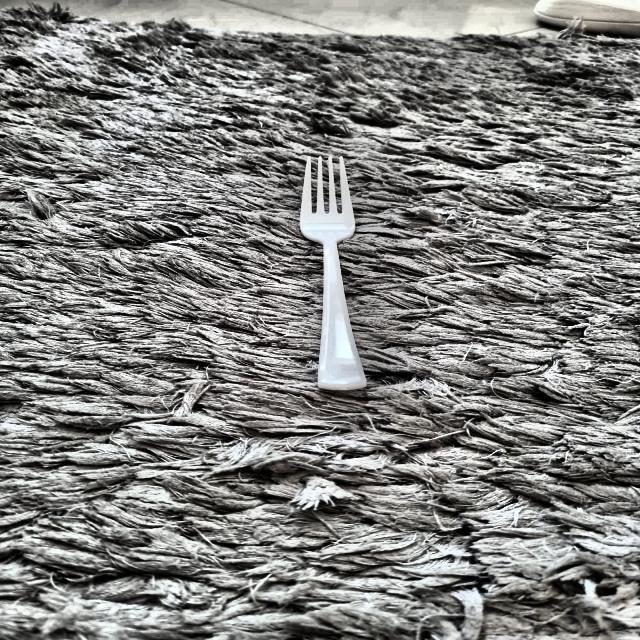plastic utensil: (294, 153, 373, 394)
